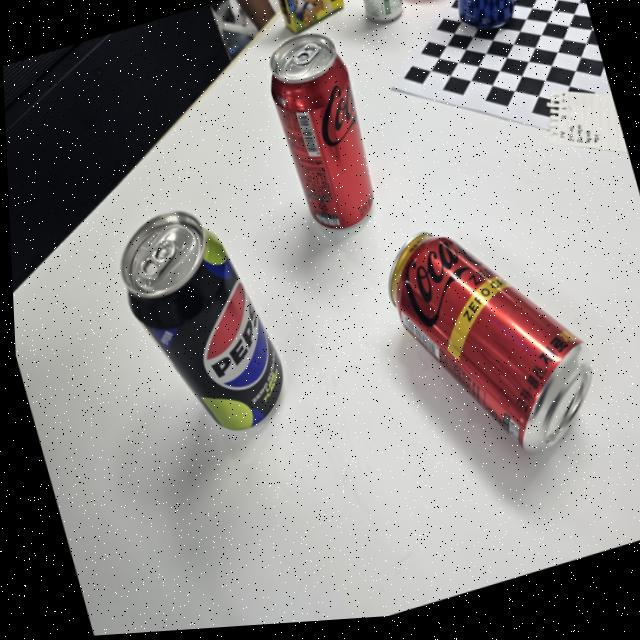can_coke_decaf: (386, 227, 591, 455)
can_coke_zero: (268, 32, 373, 232)
can_pepsi_zero: (118, 209, 284, 433)
